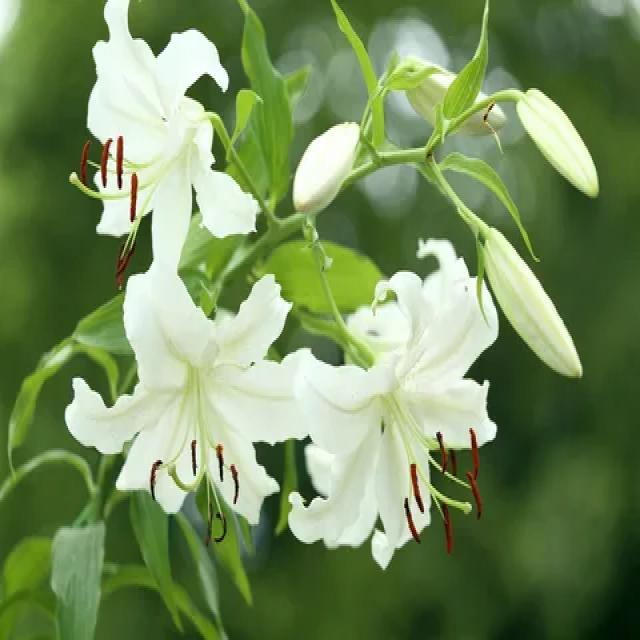lily: (300, 235, 502, 568), (70, 0, 266, 264)
